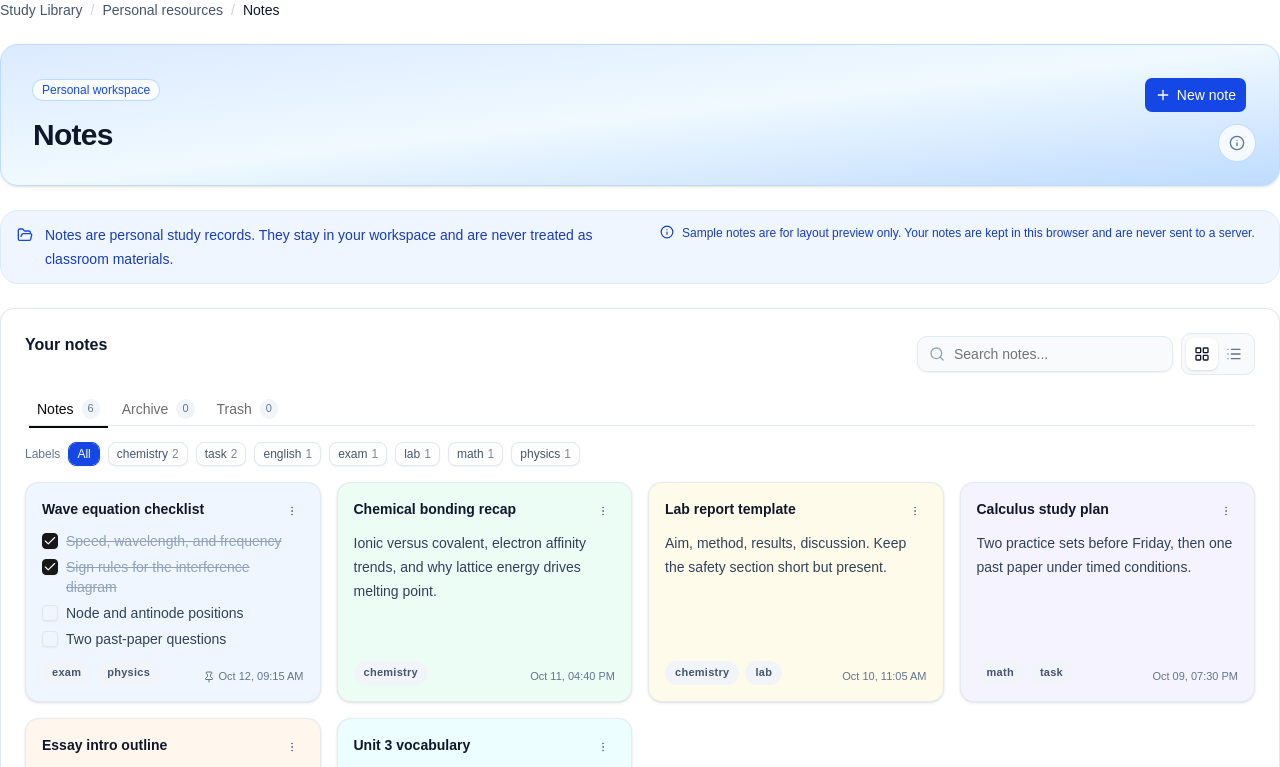
Scenario: NotesView › creates a checklist note from the editor
This screenshot has width=1280, height=767.
Click the button "New note" at (1195, 95), box [1144, 77, 1247, 113]
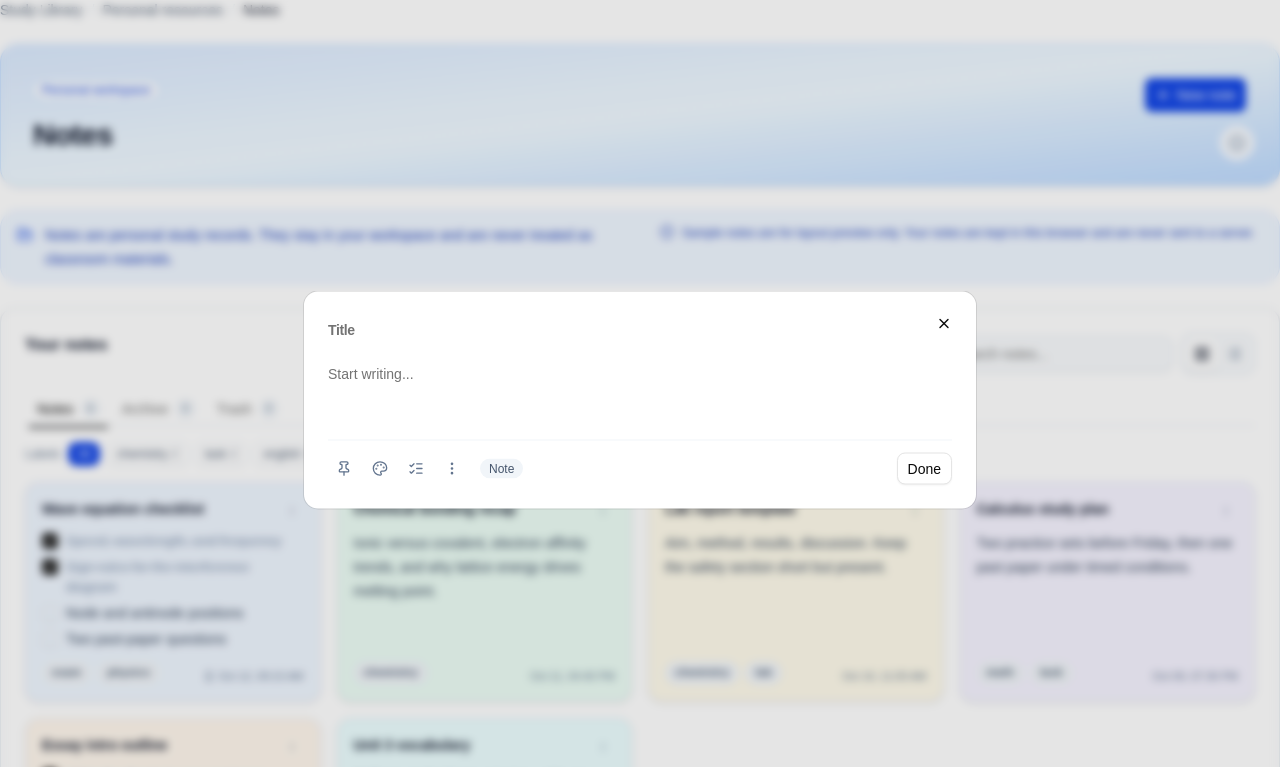
Type "Revision checklist" into the field named "Note title" at (640, 330), box [328, 316, 952, 344]
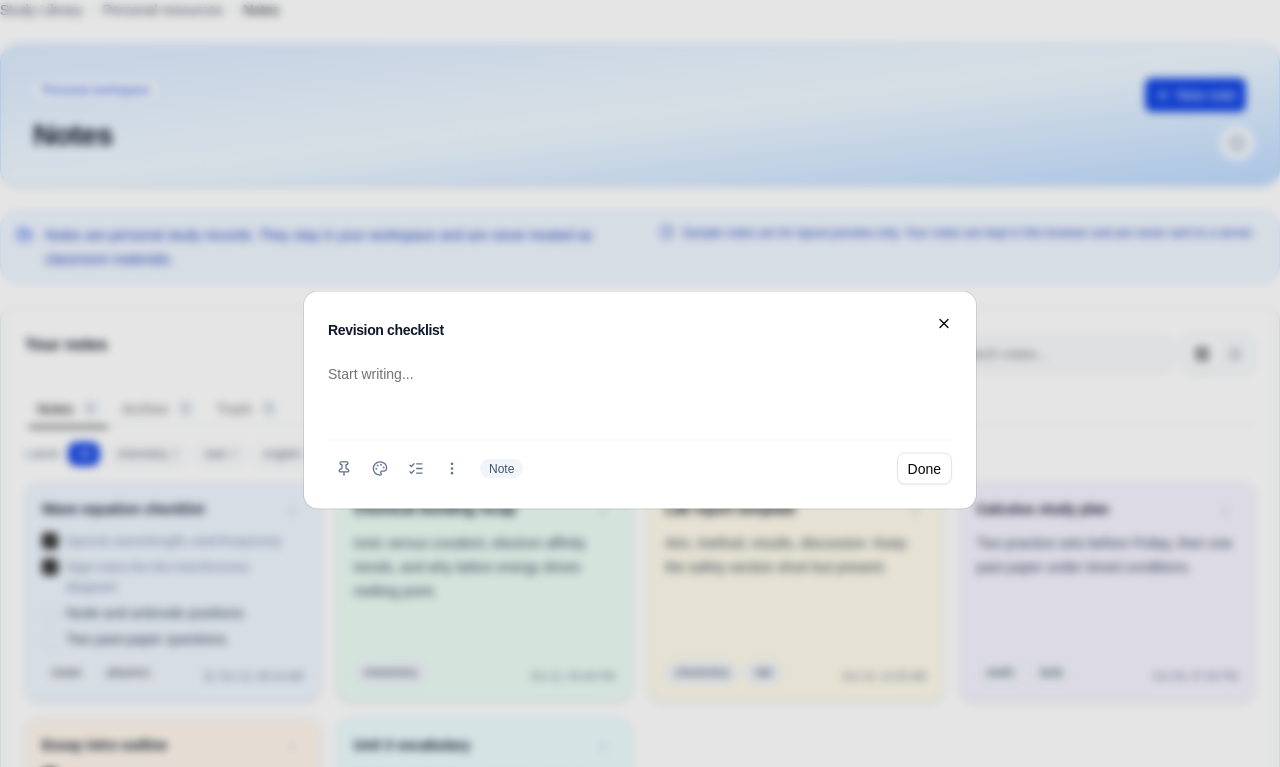
Click the button named "Switch to a checklist" at (416, 468), box [400, 452, 432, 484]
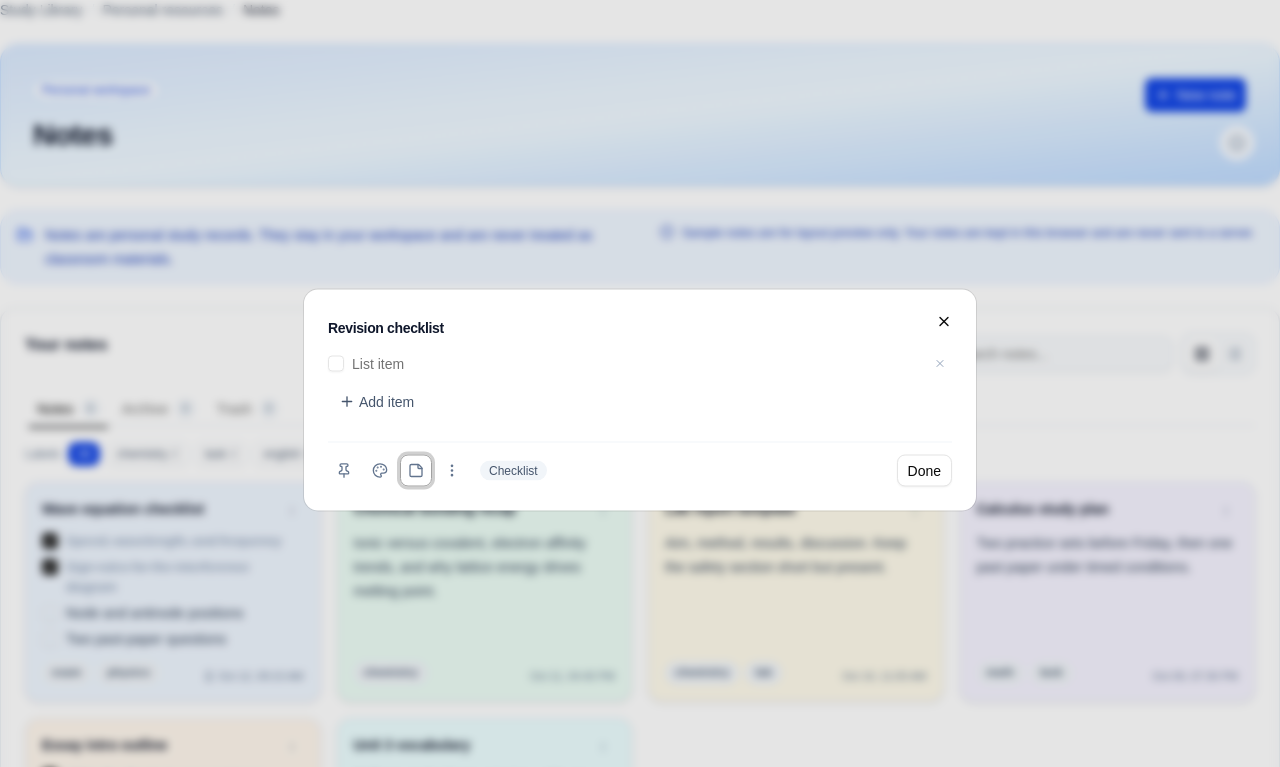
Click the button "Add item" at (377, 402), box [328, 386, 425, 418]
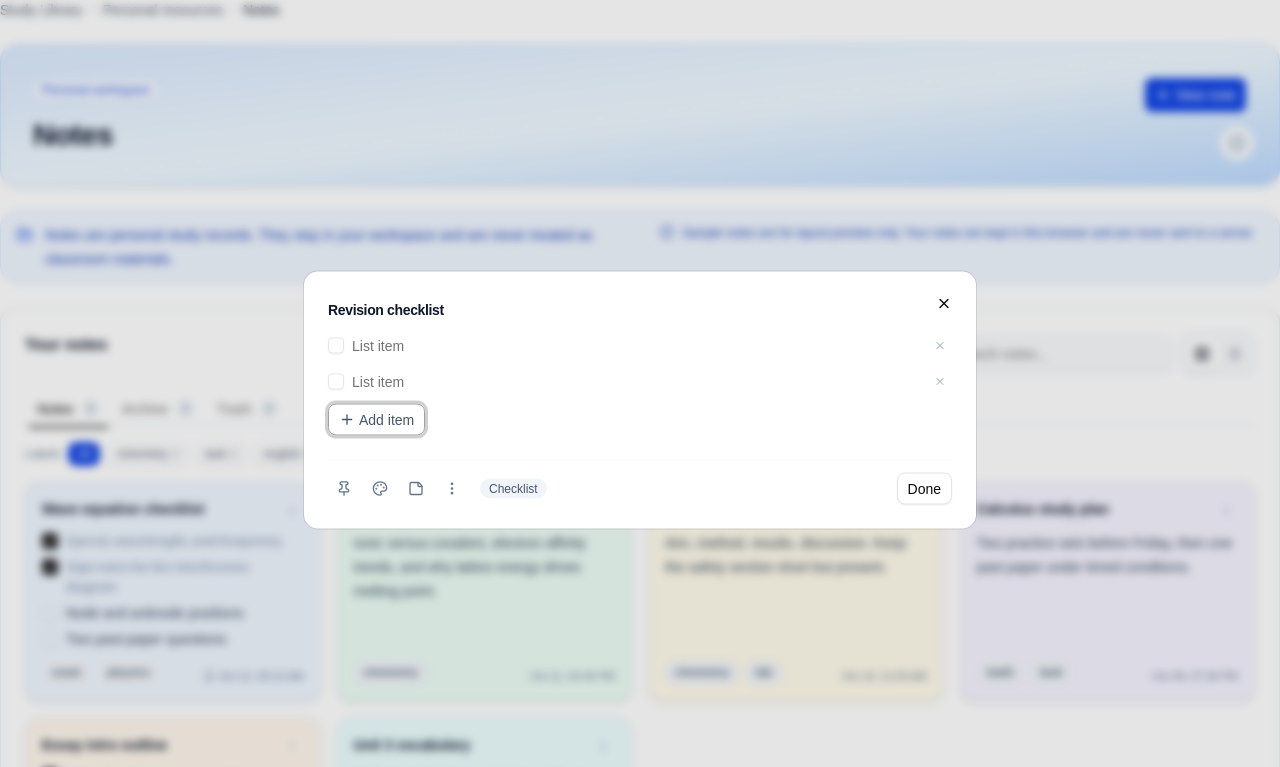
Type "Revise equations" into the field named "Checklist item 1" at (636, 346), box [352, 332, 920, 360]
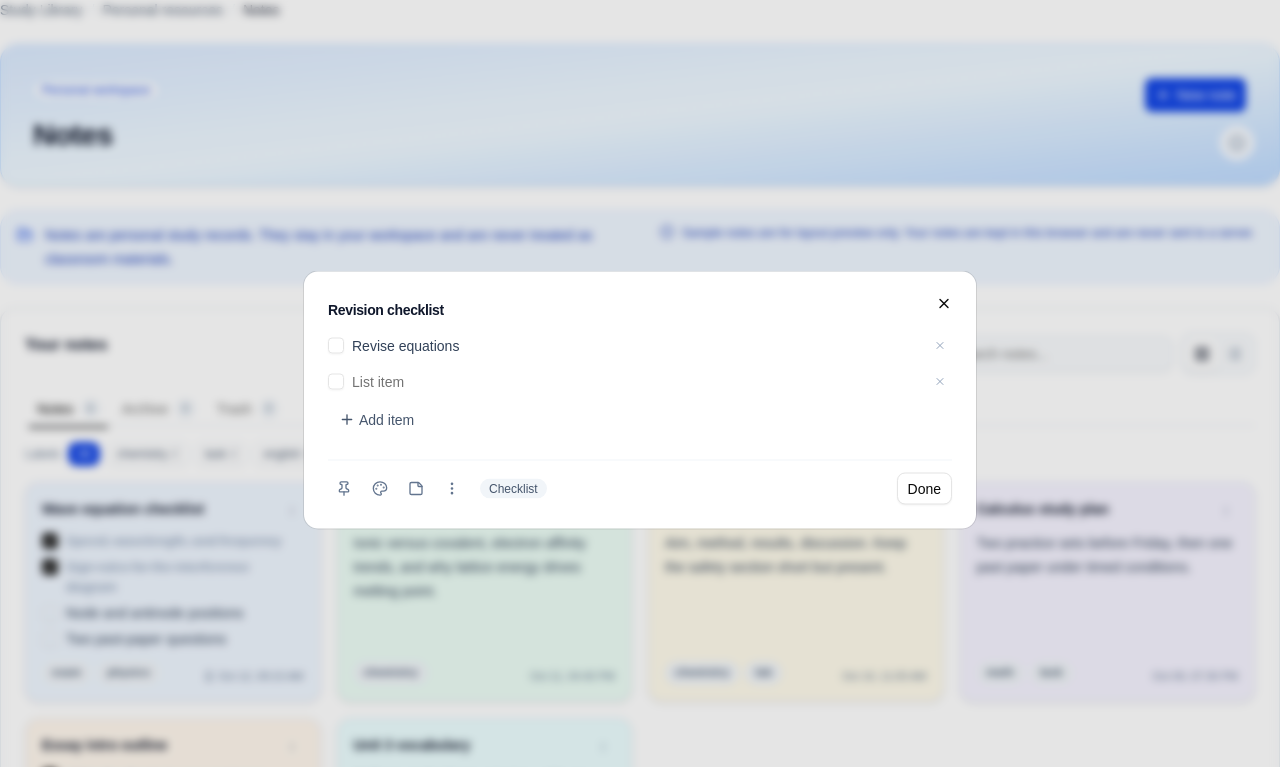
Click the button "Done" at (924, 488), box [896, 472, 952, 504]
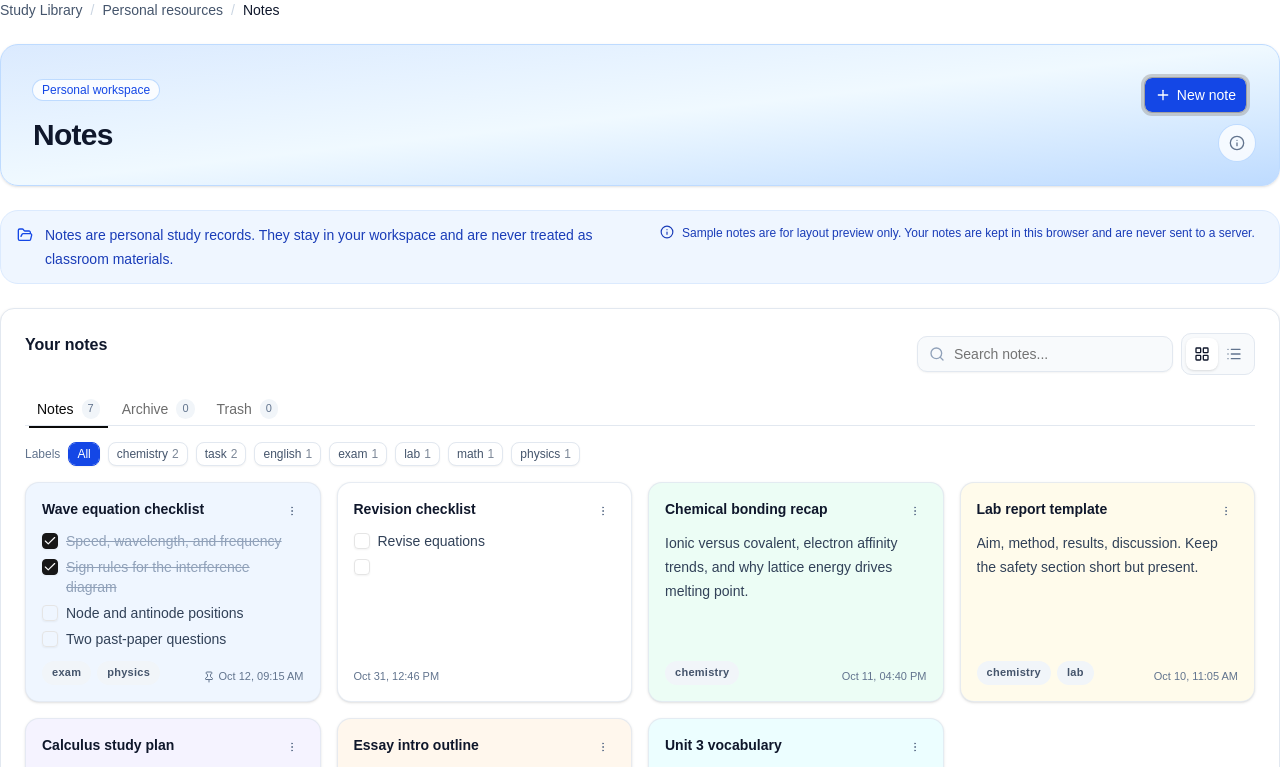
Check: the button "Revision checklist" is shown, box [354, 499, 583, 519]
Check: the checkbox named "Revise equations" is shown, box [354, 533, 370, 549]
